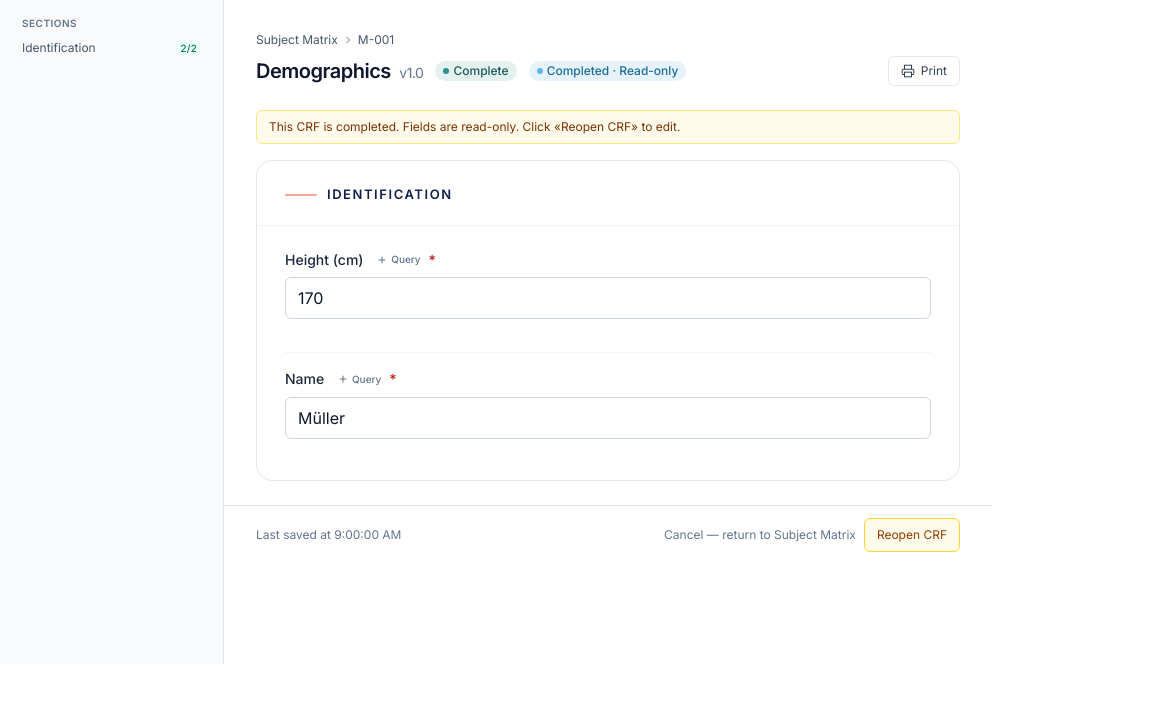
it: CrfEntryView — completed-CRF read-only lock › after a successful reopen, the fieldset flips back to editable and Save reappears
Expected: the element showing "Identification Height (cm) Query Name Query" is disabled, [256,160,960,481]
Click the button "Reopen CRF" at (912, 535), box [864,518,960,552]
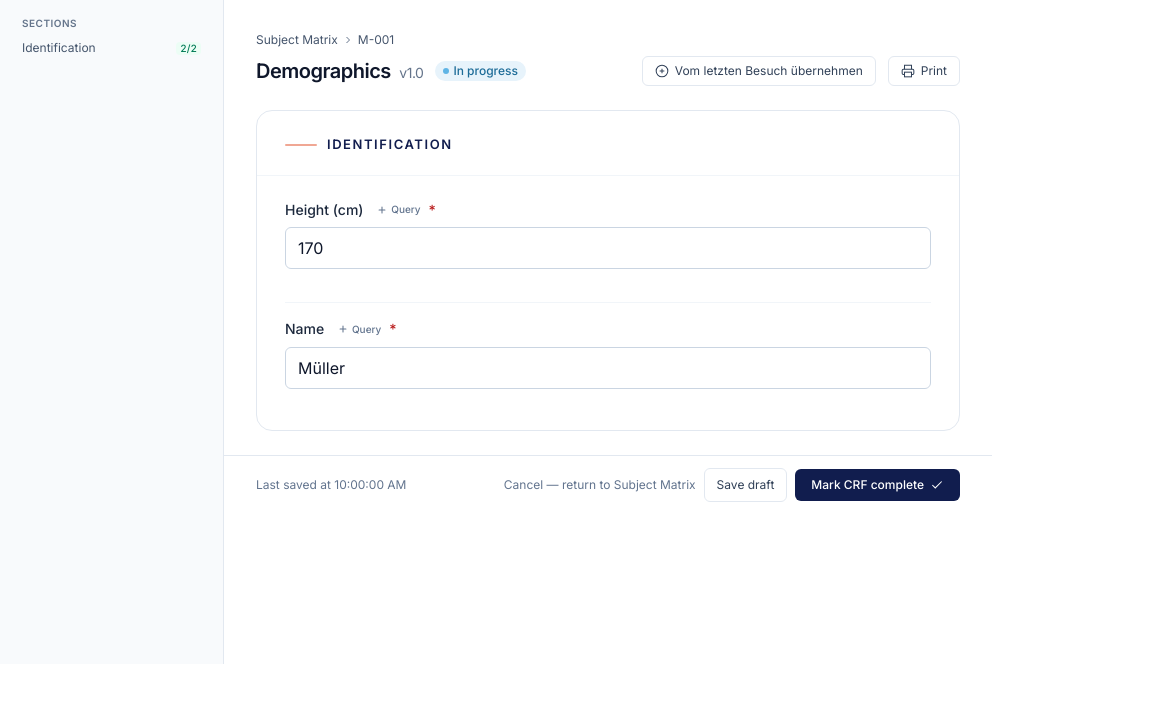
Now the element showing "Identification Height (cm) Query Name Query" is enabled, box [256,110,960,431]
Now the text "Mark CRF complete" is shown, box [795,469,960,501]
